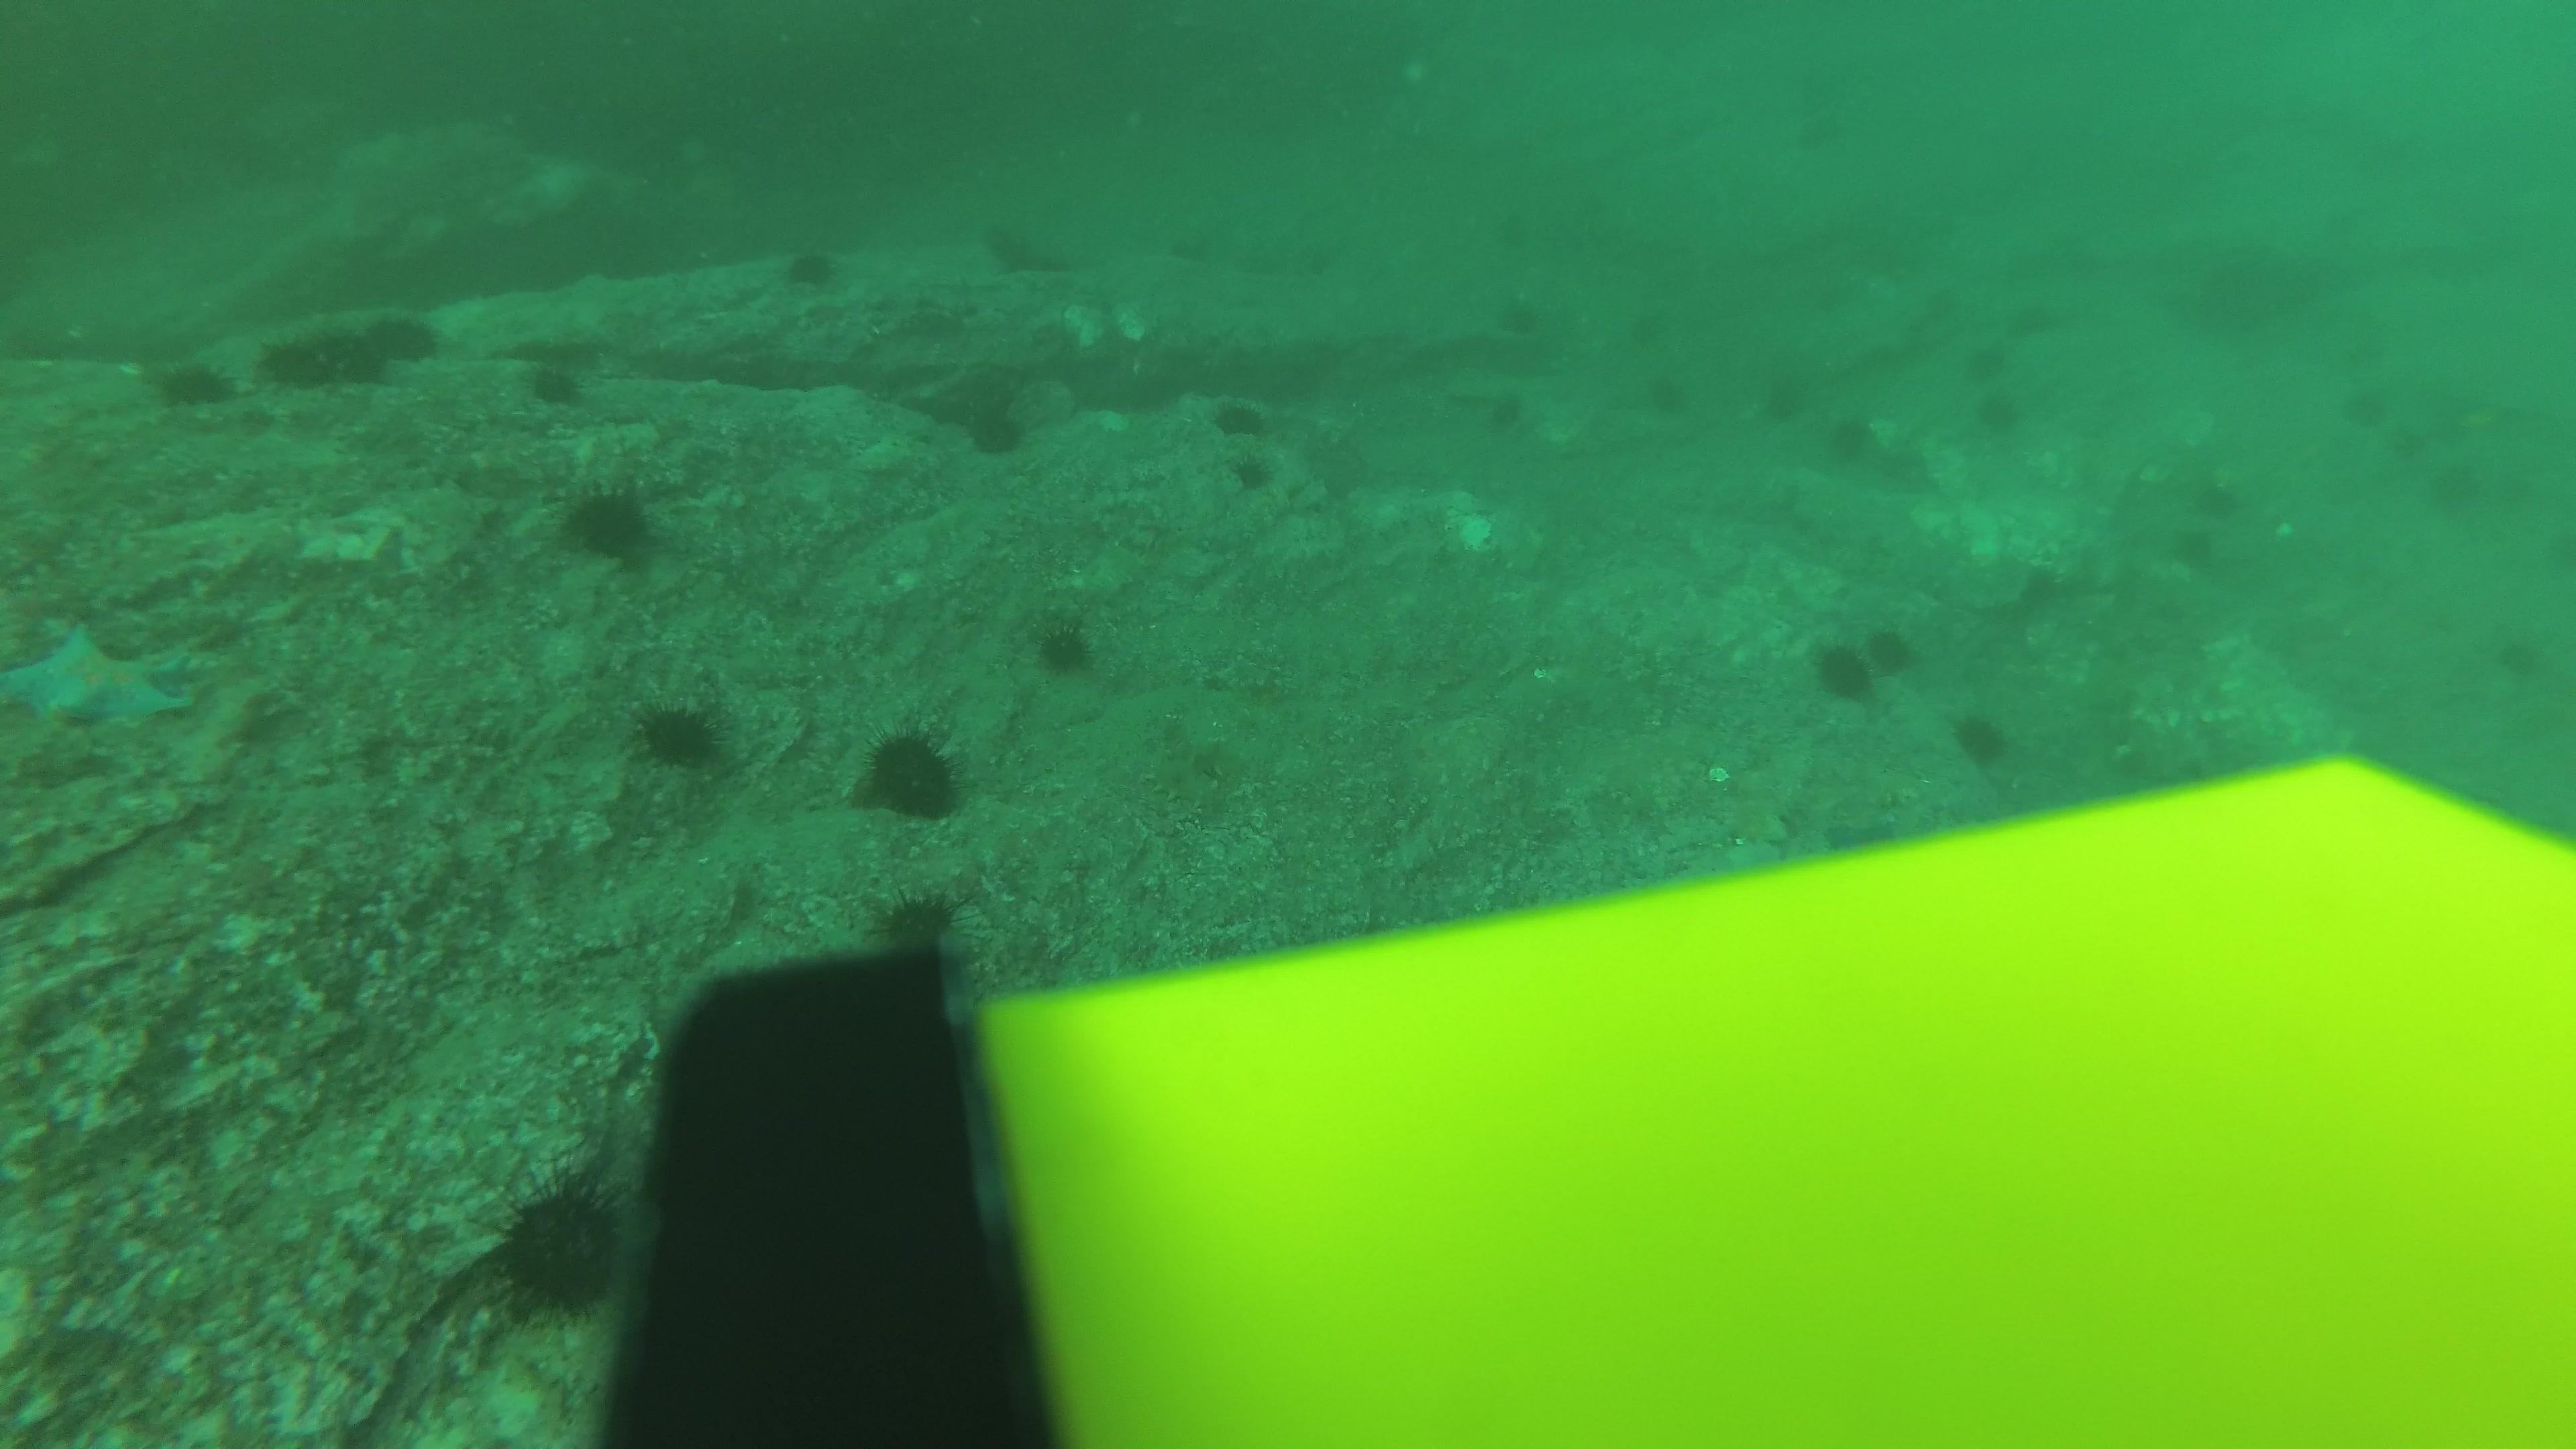echinus: (488, 1173, 628, 1320), (260, 311, 414, 391), (855, 724, 966, 821), (559, 478, 660, 566), (630, 694, 727, 771), (870, 885, 962, 961), (258, 324, 349, 391), (957, 387, 1033, 458), (984, 216, 1072, 276), (361, 308, 441, 372), (150, 352, 234, 410), (1030, 612, 1099, 679), (1821, 639, 1888, 699), (1951, 706, 2013, 770), (2367, 405, 2427, 465), (2484, 621, 2544, 681), (1971, 384, 2031, 444), (1994, 297, 2054, 357), (1614, 299, 1674, 359), (1821, 409, 1879, 471), (1861, 614, 1920, 674), (2166, 525, 2224, 586), (2180, 471, 2238, 531), (1964, 340, 2022, 400), (2058, 234, 2116, 294), (524, 356, 589, 409), (2327, 377, 2385, 435), (2426, 449, 2484, 508), (780, 241, 842, 294), (1208, 395, 1272, 442), (1221, 446, 1277, 494), (1490, 303, 1546, 349), (1488, 389, 1539, 435), (1488, 212, 1541, 255), (1760, 382, 1815, 423), (1796, 113, 1849, 154), (1230, 242, 1277, 287), (1652, 370, 1693, 418), (1166, 228, 1210, 271), (1300, 241, 1345, 283)
starfish: (4, 614, 198, 732)
